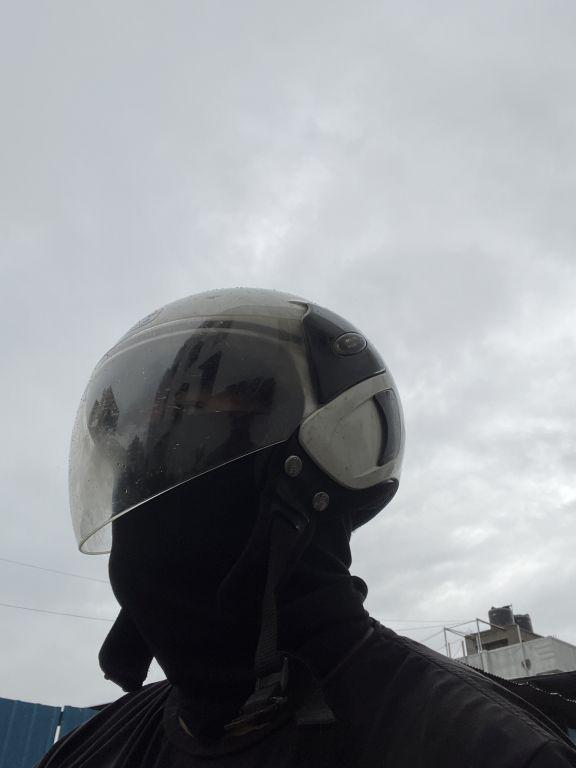helmet: (64, 274, 416, 578)
